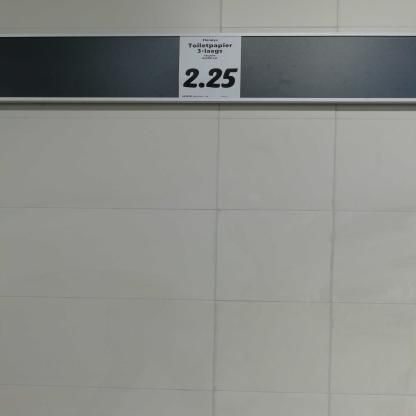prtg: (179, 37, 242, 99)
